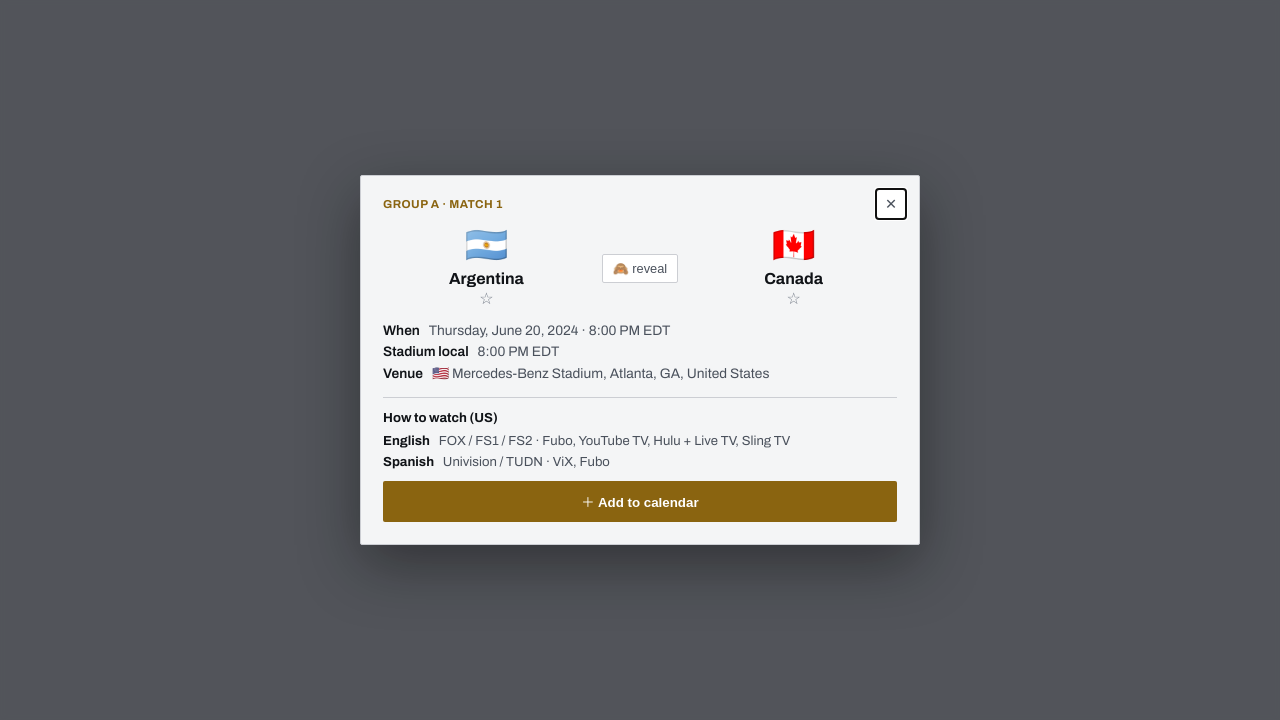
Test: MatchDetail normal states (full coverage) › spoiler reveal flow
The width and height of the screenshot is (1280, 720).
Click the button "🙈 reveal" at [640, 268], box [602,254,678,283]
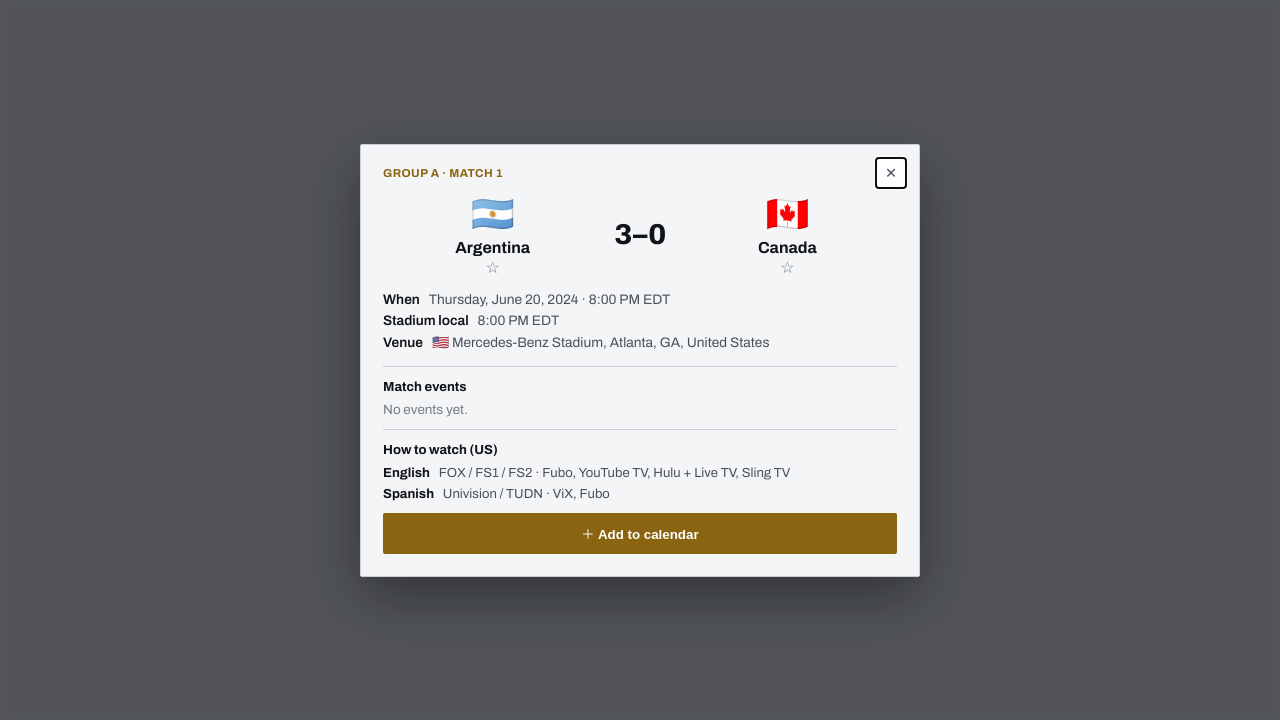
Result: the text "3–0" is shown at [614,218,666,250]
